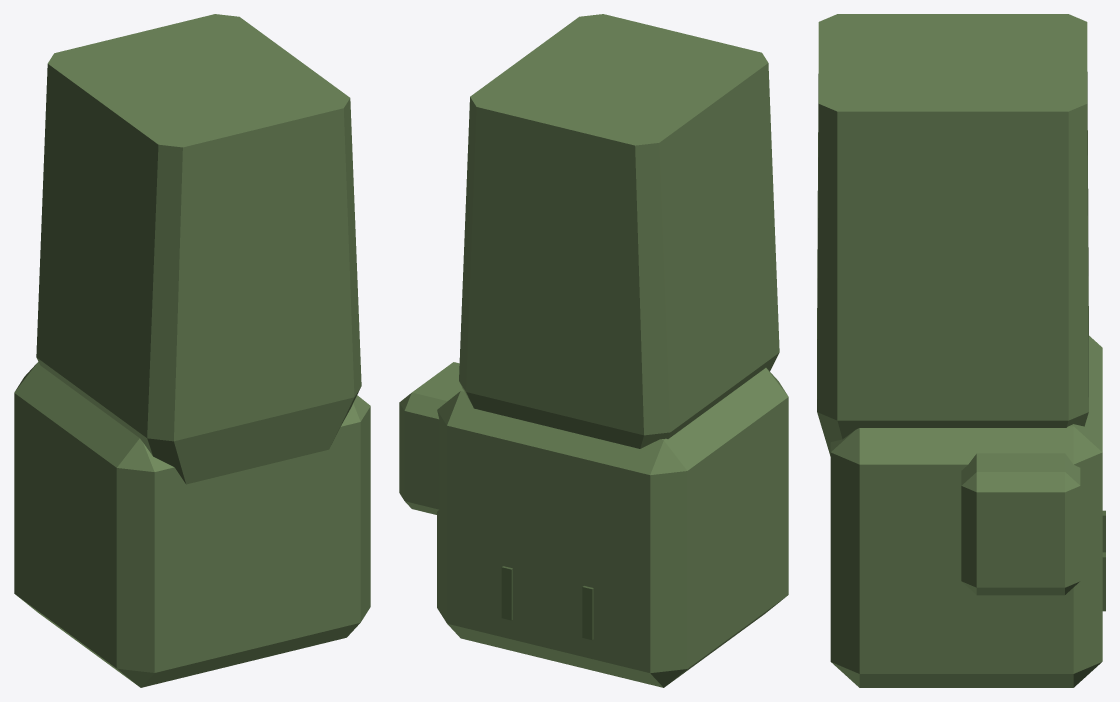
The model's file is ForearmLeft.glb.
3 renders of one model, left to right at view 1: azimuth 30°, elevation 25°; view 2: azimuth 150°, elevation 25°; view 3: azimuth 270°, elevation 25°, orthographic. The views are drawn at different scales.
Visible parts, largest first — view 1: Sculpture; view 2: Sculpture; view 3: Sculpture.
Part boxes in pixels (left/top/right/bottom): Sculpture: left=14, top=14, right=370, bottom=687; Sculpture: left=399, top=14, right=788, bottom=687; Sculpture: left=817, top=14, right=1105, bottom=687.
Size of the model in its own units: 0.21 by 0.372 by 0.17.
